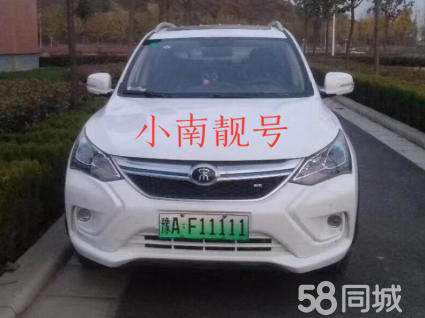plate: (150, 200, 258, 251)
